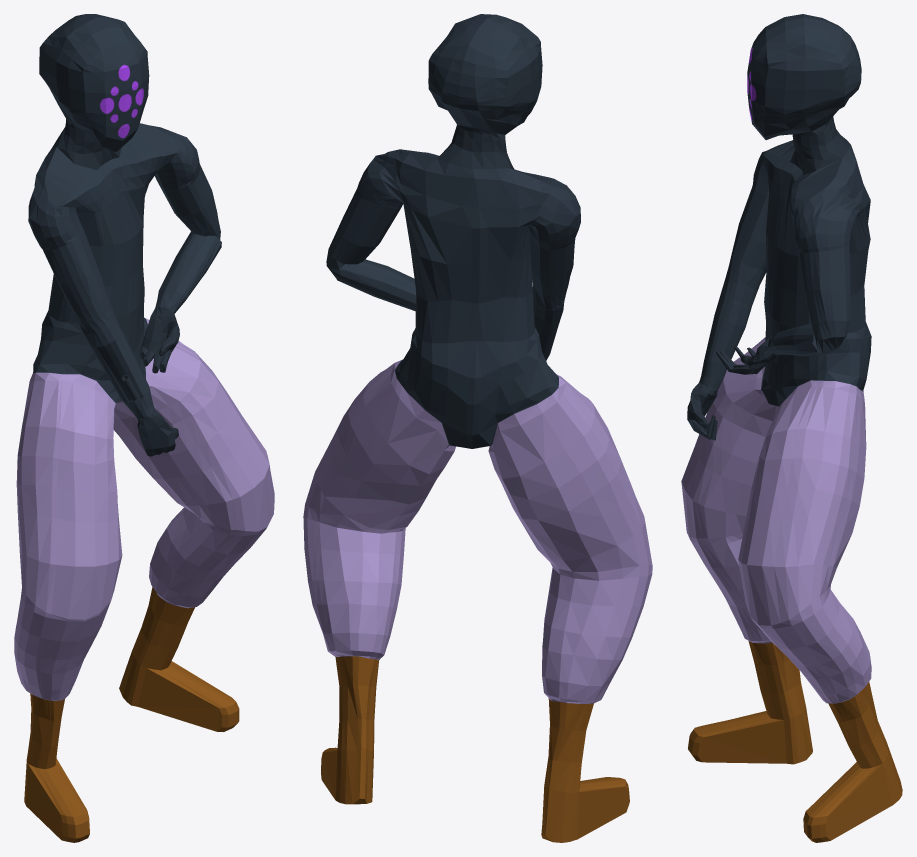
Rendered from Oracle_WL_000011.obj.
3 renders of one model, left to right at view 1: azimuth 30°, elevation 25°; view 2: azimuth 150°, elevation 25°; view 3: azimuth 270°, elevation 25°, orthographic. The views are drawn at different scales.
Parts seen in each view (by area): view 1: Cube; view 2: Cube; view 3: Cube.
Boxes of the visible parts, x1=… form: Cube: x1=14, y1=14, x2=274, y2=842; Cube: x1=303, y1=14, x2=652, y2=842; Cube: x1=681, y1=14, x2=902, y2=842.
Bounding box in the file's own units: 1.47 × 3.79 × 0.9832.
